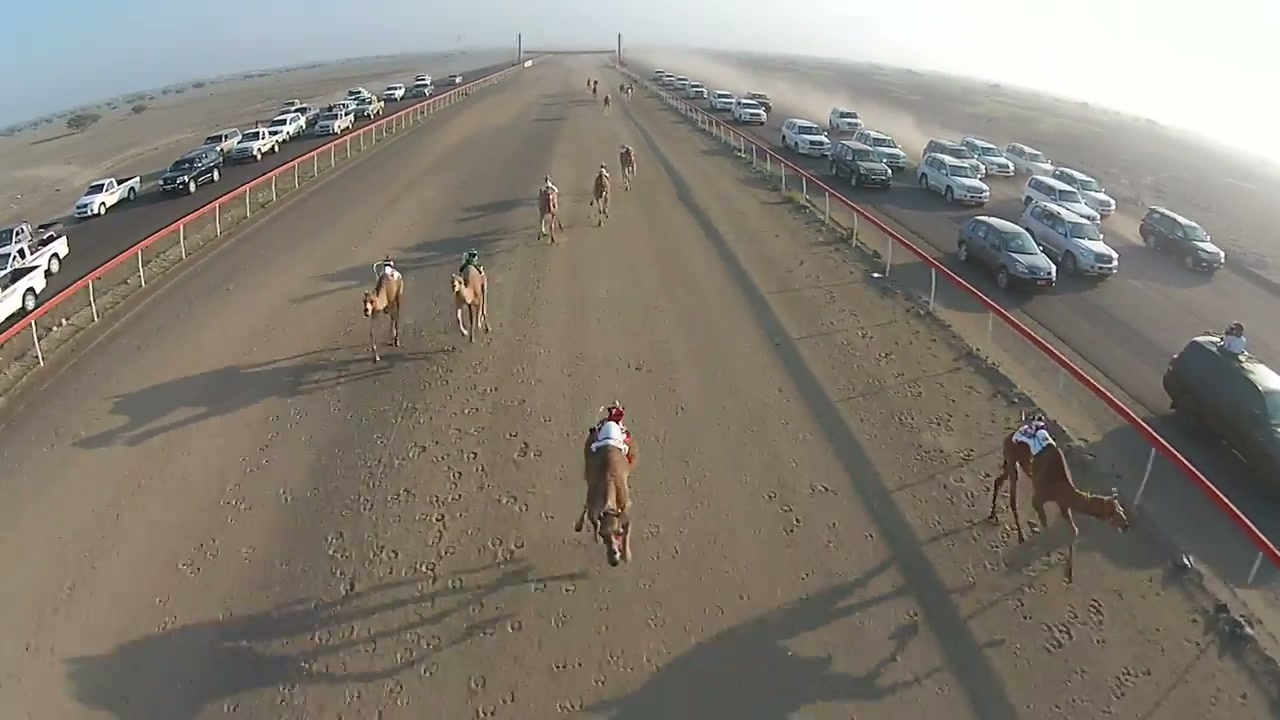animal_footprint: (311, 366, 539, 706)
